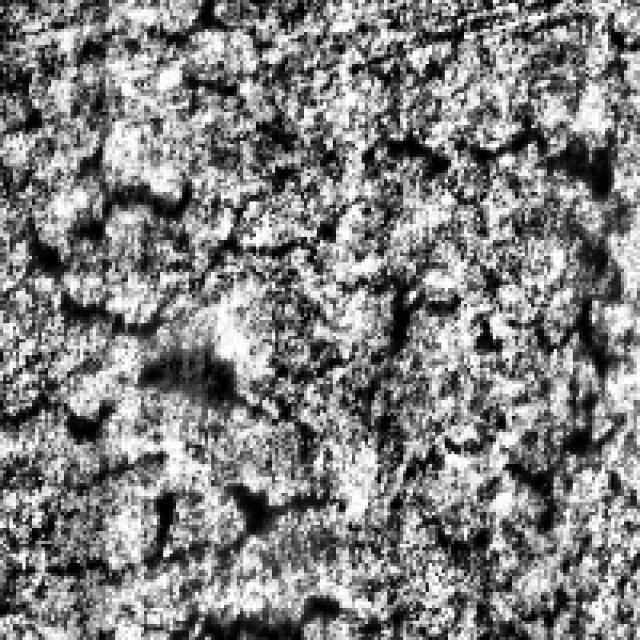Pitted_Surface: (0, 218, 592, 460), (3, 0, 538, 208), (310, 284, 612, 628)
